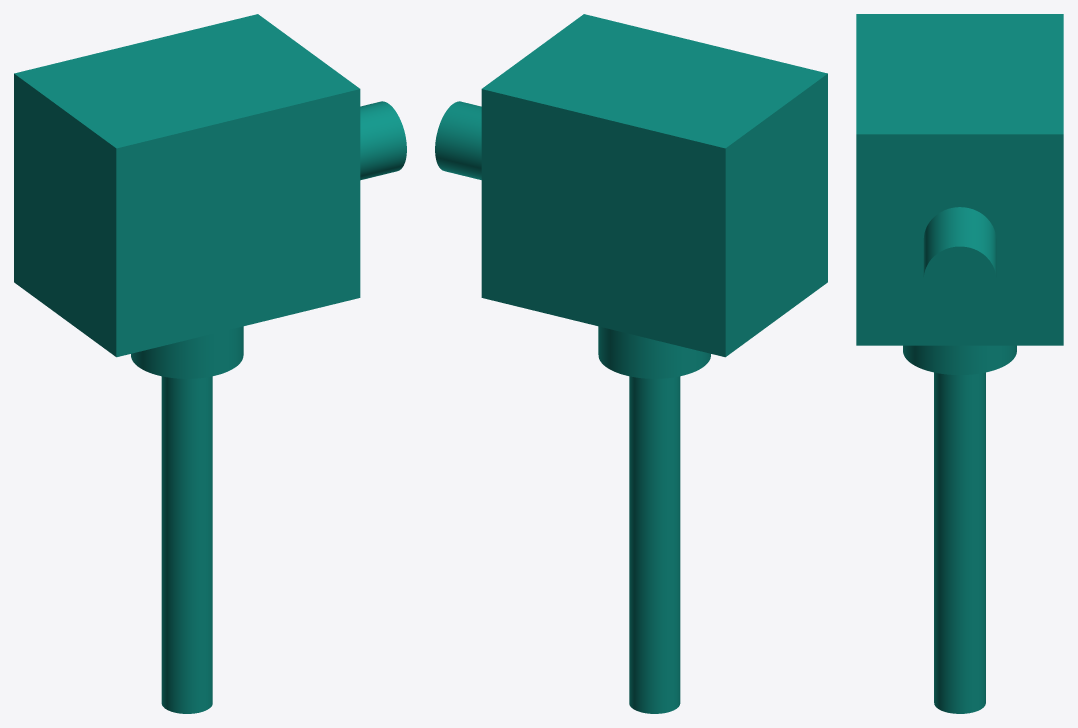
File: SENS-I2C-TEMP.glb
3 views of the same model, side by side, from view 1: azimuth 30°, elevation 25°; view 2: azimuth 150°, elevation 25°; view 3: azimuth 270°, elevation 25° (orthographic).
Parts seen in each view (by area): view 1: SENS-I2C-TEMP; view 2: SENS-I2C-TEMP; view 3: SENS-I2C-TEMP.
Part boxes in pixels (x1,y1,x2,y2): SENS-I2C-TEMP: (14, 14, 406, 713); SENS-I2C-TEMP: (435, 14, 827, 713); SENS-I2C-TEMP: (856, 14, 1063, 713).
Size of the model in its own units: 0.073 by 0.134 by 0.04.
